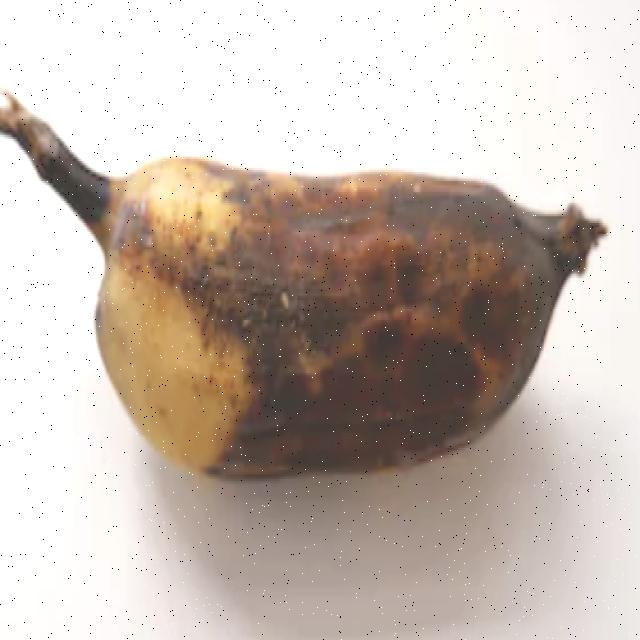Rotten: (0, 4, 618, 512)
